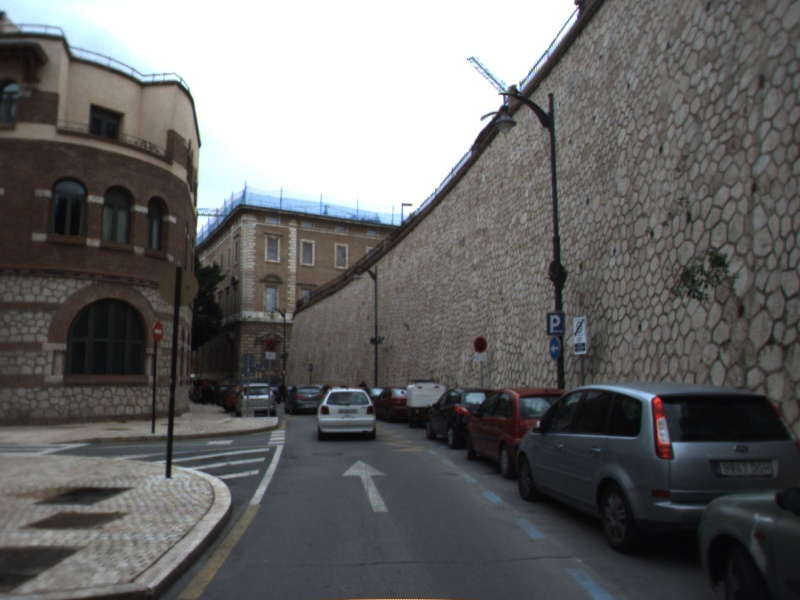STRAIGHT: (341, 458, 390, 514)
